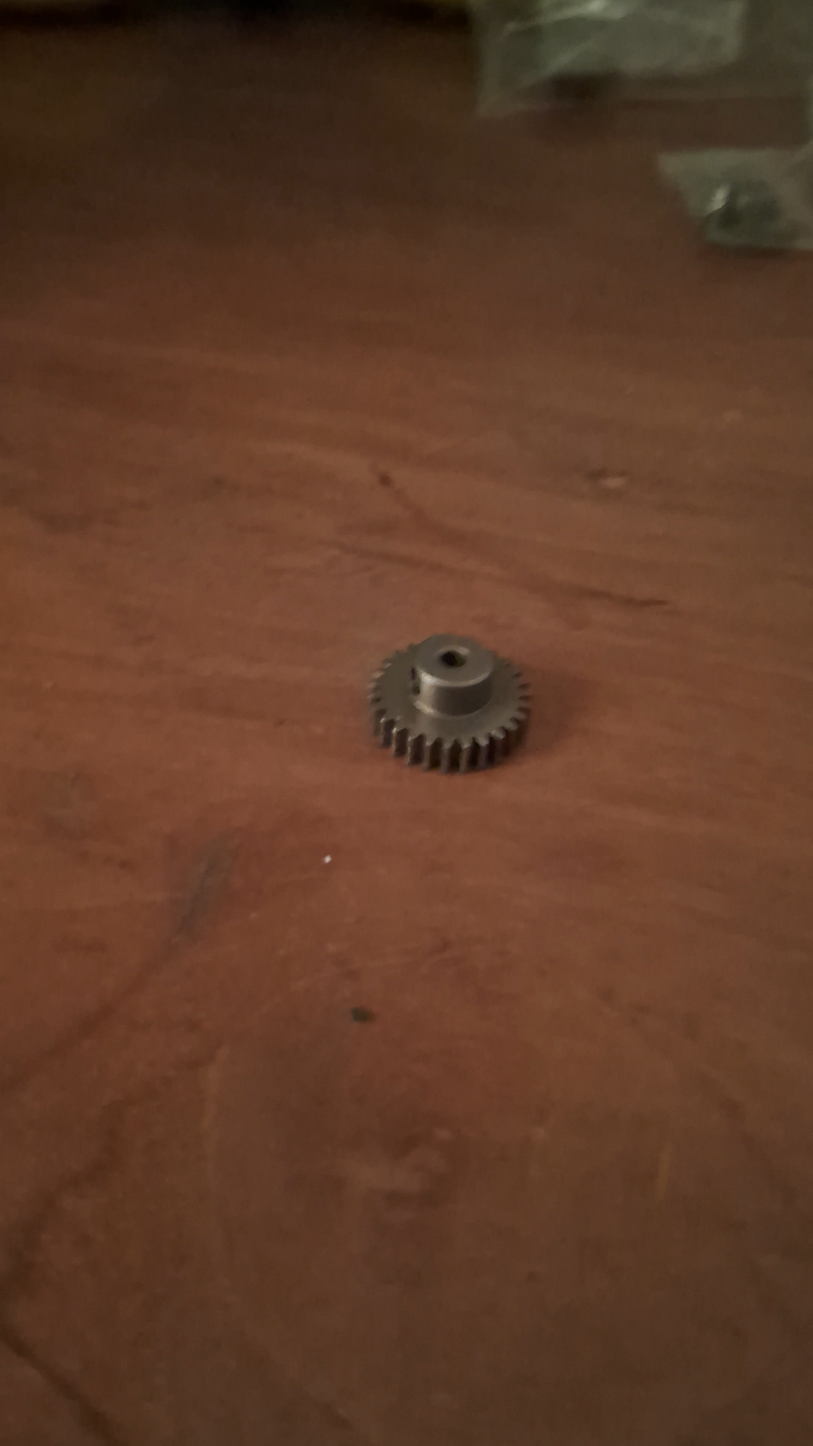spur gear: (369, 635, 528, 772)
